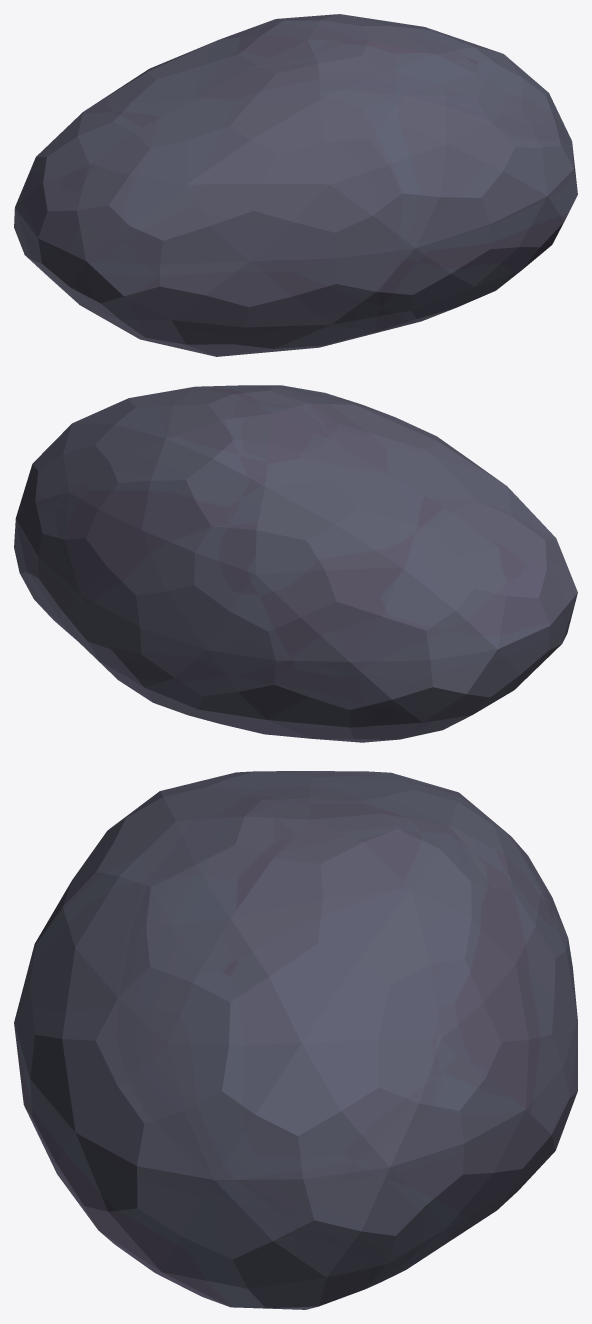
3 renders of one model, top to bottom at view 1: azimuth 30°, elevation 25°; view 2: azimuth 150°, elevation 25°; view 3: azimuth 270°, elevation 25°, orthographic. The views are drawn at different scales.
Visible parts, largest first — view 1: метиорит.006; view 2: метиорит.006; view 3: метиорит.006.
Boxes of the visible parts, x1=… form: метиорит.006: x1=14, y1=14, x2=577, y2=356; метиорит.006: x1=14, y1=385, x2=577, y2=742; метиорит.006: x1=14, y1=771, x2=577, y2=1309.
Bounding box in the file's own units: 336 × 181 × 222.
Materials: 1 (1 with a texture image).
